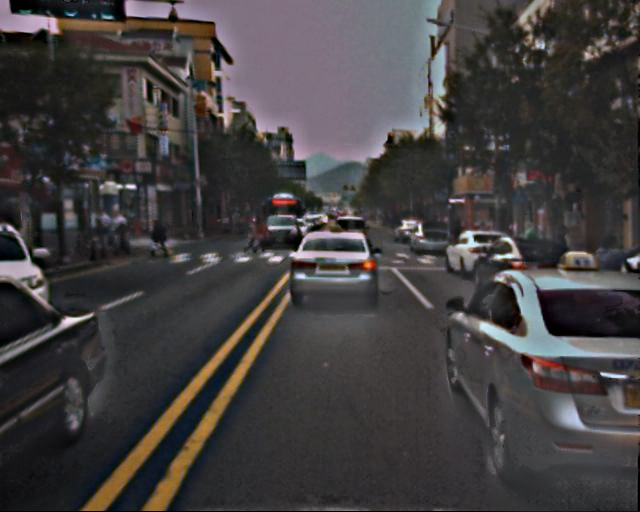person: (590, 235, 633, 341), (88, 213, 167, 259), (554, 219, 572, 263), (255, 218, 269, 253), (246, 233, 254, 253)
